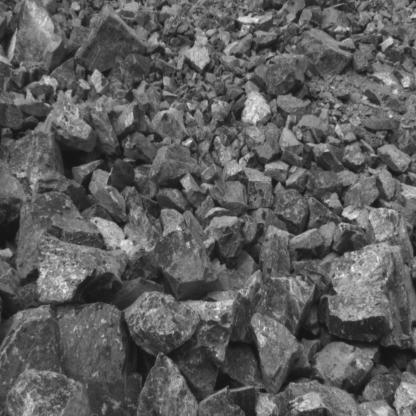stone: (318, 241, 395, 344), (0, 304, 67, 416), (36, 230, 129, 304), (16, 191, 88, 286), (167, 300, 236, 399), (56, 301, 137, 383), (123, 291, 200, 357), (75, 4, 146, 73), (154, 228, 217, 300), (250, 313, 304, 393), (5, 369, 92, 416), (136, 352, 198, 416), (8, 0, 69, 65), (10, 130, 65, 202), (255, 274, 315, 337), (378, 246, 414, 350), (67, 370, 142, 416), (310, 341, 374, 393), (278, 380, 369, 416), (48, 91, 97, 152), (365, 207, 413, 263), (297, 29, 353, 76), (149, 143, 202, 188), (45, 214, 107, 249), (32, 171, 86, 210), (0, 160, 28, 235), (205, 216, 245, 267), (220, 342, 263, 389), (106, 278, 166, 310), (124, 202, 163, 250), (201, 180, 250, 216), (273, 188, 310, 235), (106, 53, 152, 90), (304, 161, 344, 203), (91, 102, 122, 156), (292, 261, 331, 303), (198, 386, 250, 416), (266, 57, 305, 96), (122, 248, 163, 284), (362, 374, 401, 410), (263, 233, 291, 281), (231, 292, 256, 345), (243, 167, 274, 209), (344, 174, 379, 208), (90, 217, 126, 250), (152, 108, 189, 140), (332, 222, 368, 254), (121, 132, 158, 163), (288, 392, 335, 416), (307, 197, 342, 229), (72, 159, 107, 190), (241, 91, 272, 126), (392, 183, 416, 228), (277, 93, 313, 123), (377, 145, 413, 174), (0, 87, 24, 130), (157, 188, 194, 215), (183, 40, 211, 74), (49, 57, 77, 90), (297, 114, 327, 143), (42, 40, 69, 72), (180, 175, 206, 208), (321, 7, 351, 35), (229, 386, 257, 416), (235, 250, 260, 283), (116, 102, 139, 137), (95, 186, 127, 211), (393, 382, 416, 416), (289, 228, 324, 250), (160, 208, 187, 236), (278, 127, 304, 156), (110, 158, 135, 188), (352, 42, 377, 72), (255, 392, 285, 416), (14, 99, 52, 117), (67, 25, 90, 54), (360, 400, 401, 416), (250, 141, 276, 165), (285, 167, 309, 192), (375, 170, 394, 201), (89, 169, 111, 195), (277, 0, 306, 19), (342, 150, 367, 172), (216, 144, 240, 166), (222, 159, 246, 181), (264, 161, 289, 182), (242, 127, 265, 149), (365, 117, 400, 131), (253, 30, 277, 50), (398, 130, 416, 156), (299, 6, 321, 27), (233, 33, 253, 56), (211, 101, 234, 118), (239, 151, 258, 171), (222, 56, 241, 74)
